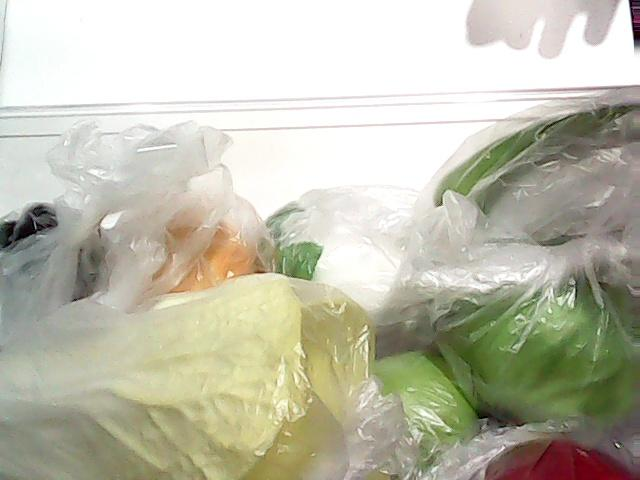apple: (368, 349, 482, 461), (462, 436, 638, 480)
cabbage: (420, 247, 640, 425)
grape: (0, 175, 112, 283)
lemon: (132, 196, 282, 316)
napa cabbage: (3, 283, 369, 480)
pepper: (419, 74, 640, 233)
radish: (264, 186, 424, 331)
